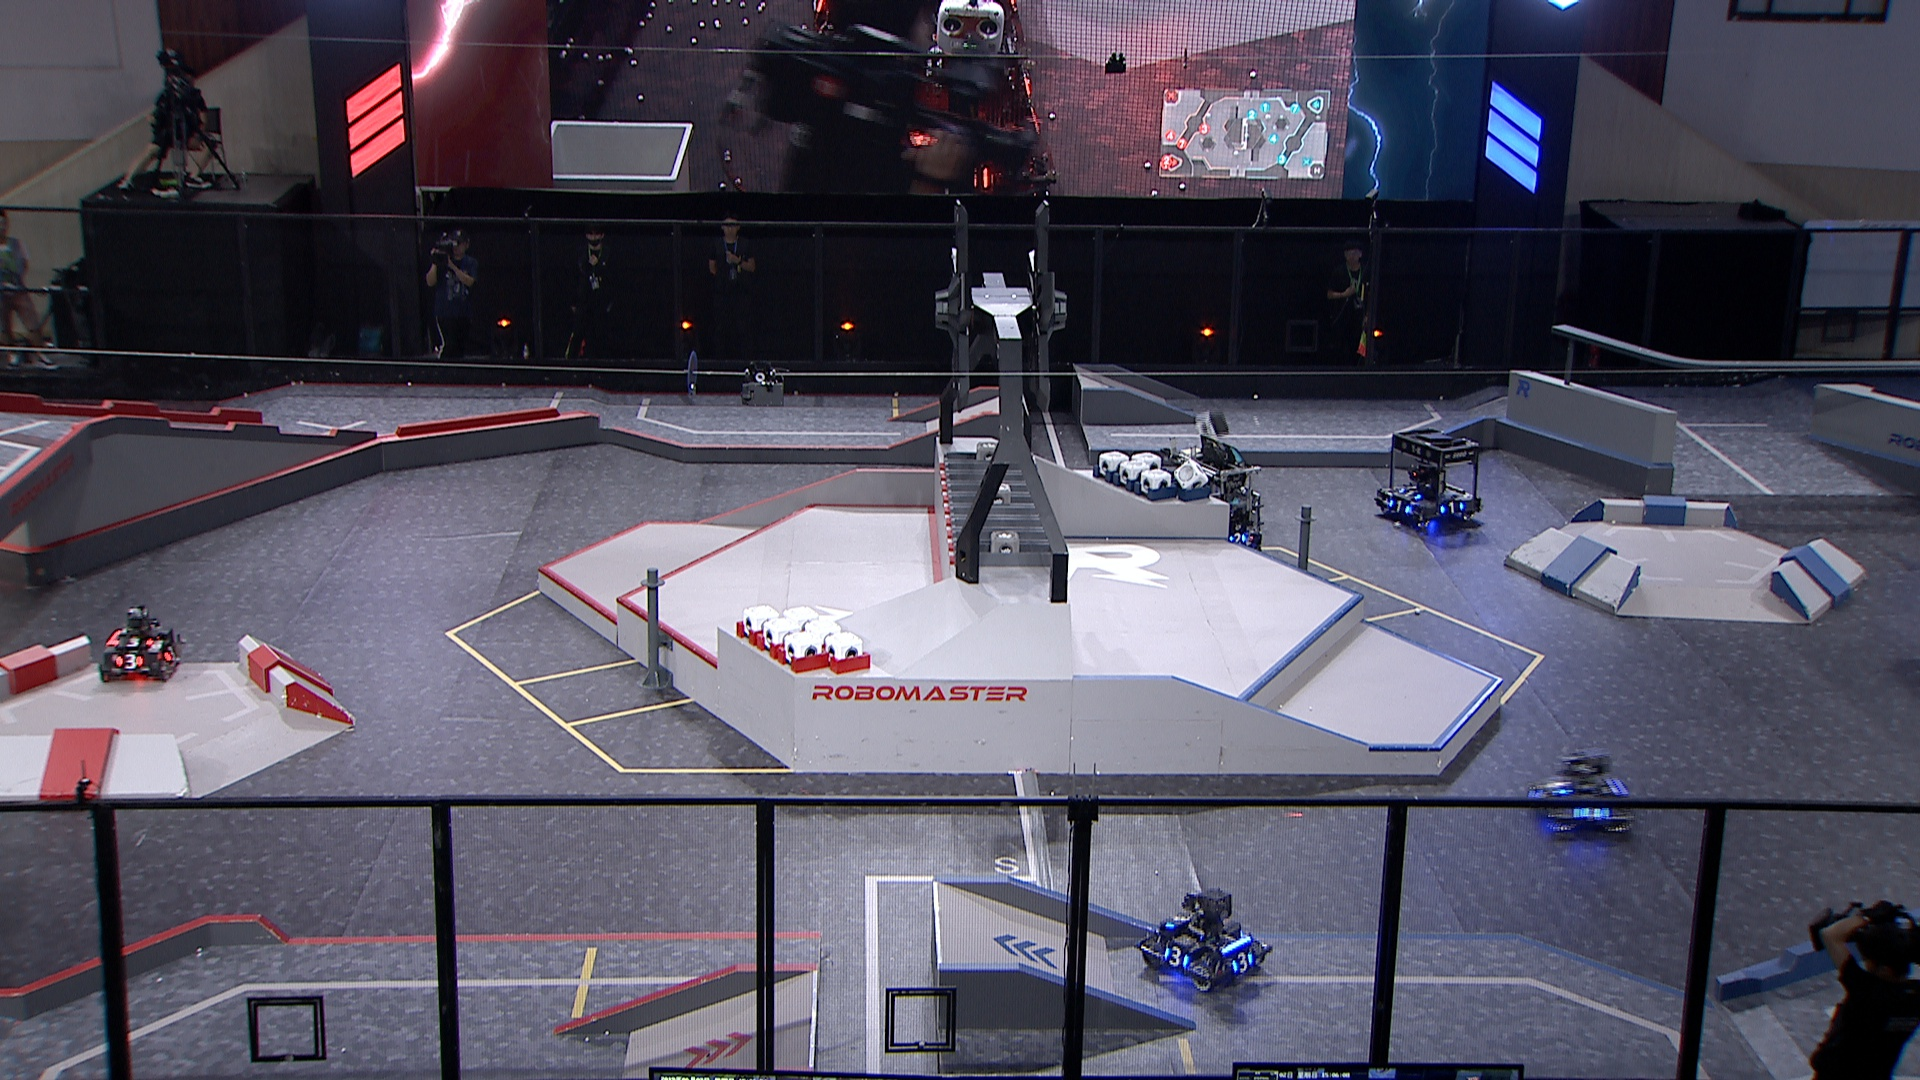armor: (1162, 945, 1189, 971), (1575, 804, 1611, 822), (1230, 951, 1255, 975), (113, 651, 144, 670), (1163, 913, 1191, 931), (111, 636, 153, 647), (1545, 777, 1575, 794), (1437, 498, 1465, 516), (1387, 496, 1411, 516), (1226, 529, 1247, 546), (1396, 488, 1423, 501), (162, 645, 178, 661)
car: (1134, 889, 1273, 988), (1158, 447, 1265, 562), (1373, 429, 1484, 531), (1528, 752, 1636, 836), (98, 604, 181, 683)
